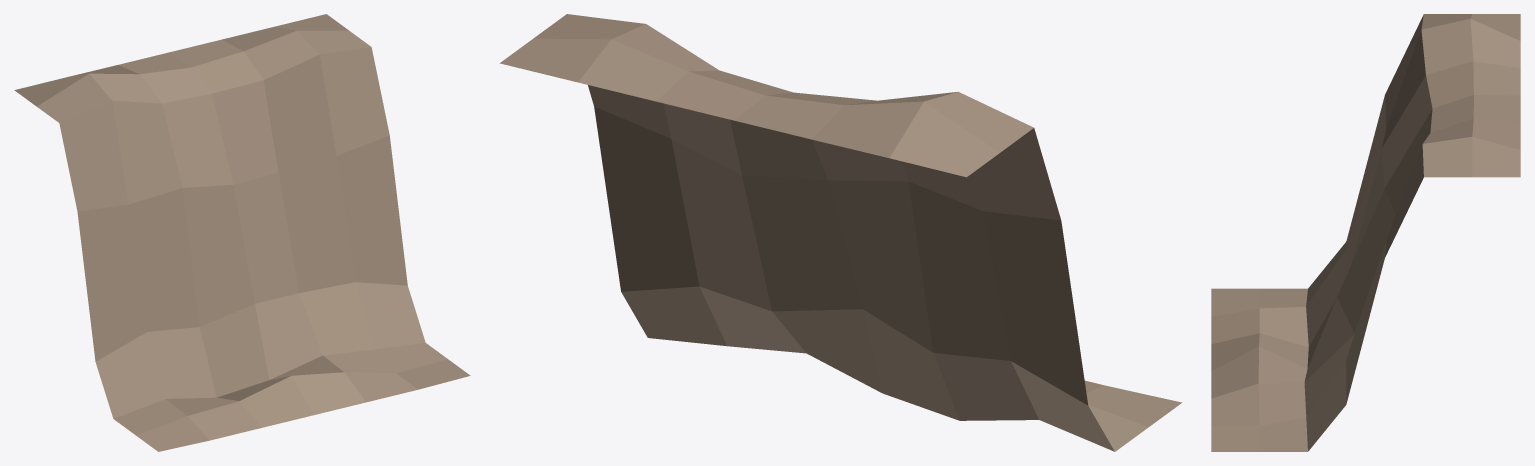
Rendered from Groborchik_RiverBank_5m_2.fbx.
The picture shows the model from 3 angles, left to right: view 1: azimuth 30°, elevation 25°; view 2: azimuth 150°, elevation 25°; view 3: azimuth 270°, elevation 25°; orthographic projection. The views are drawn at different scales.
Parts seen in each view (by area): view 1: 5m_2; view 2: 5m_2; view 3: 5m_2.
Part boxes in pixels (box(x1,y1,x2,y2)): 5m_2: box(14, 14, 470, 451); 5m_2: box(500, 14, 1181, 451); 5m_2: box(1211, 14, 1520, 451).
Bounding box in the file's own units: 1000 × 861 × 800.
